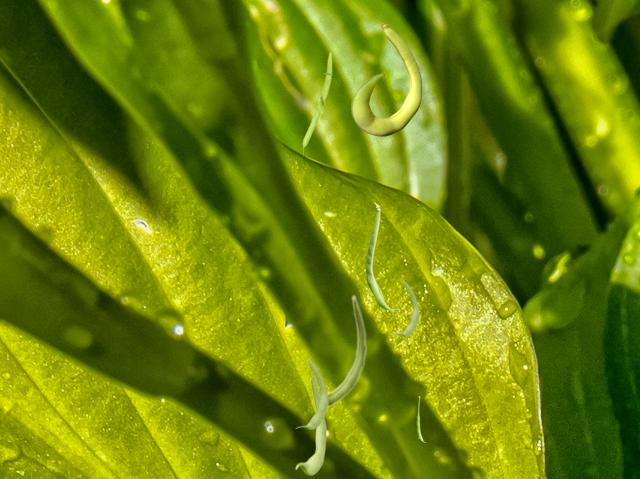french_bean: (351, 23, 421, 135), (328, 294, 366, 406), (366, 202, 398, 310), (301, 50, 332, 158), (295, 376, 325, 474), (295, 359, 327, 428), (393, 280, 418, 335), (416, 396, 425, 441)
